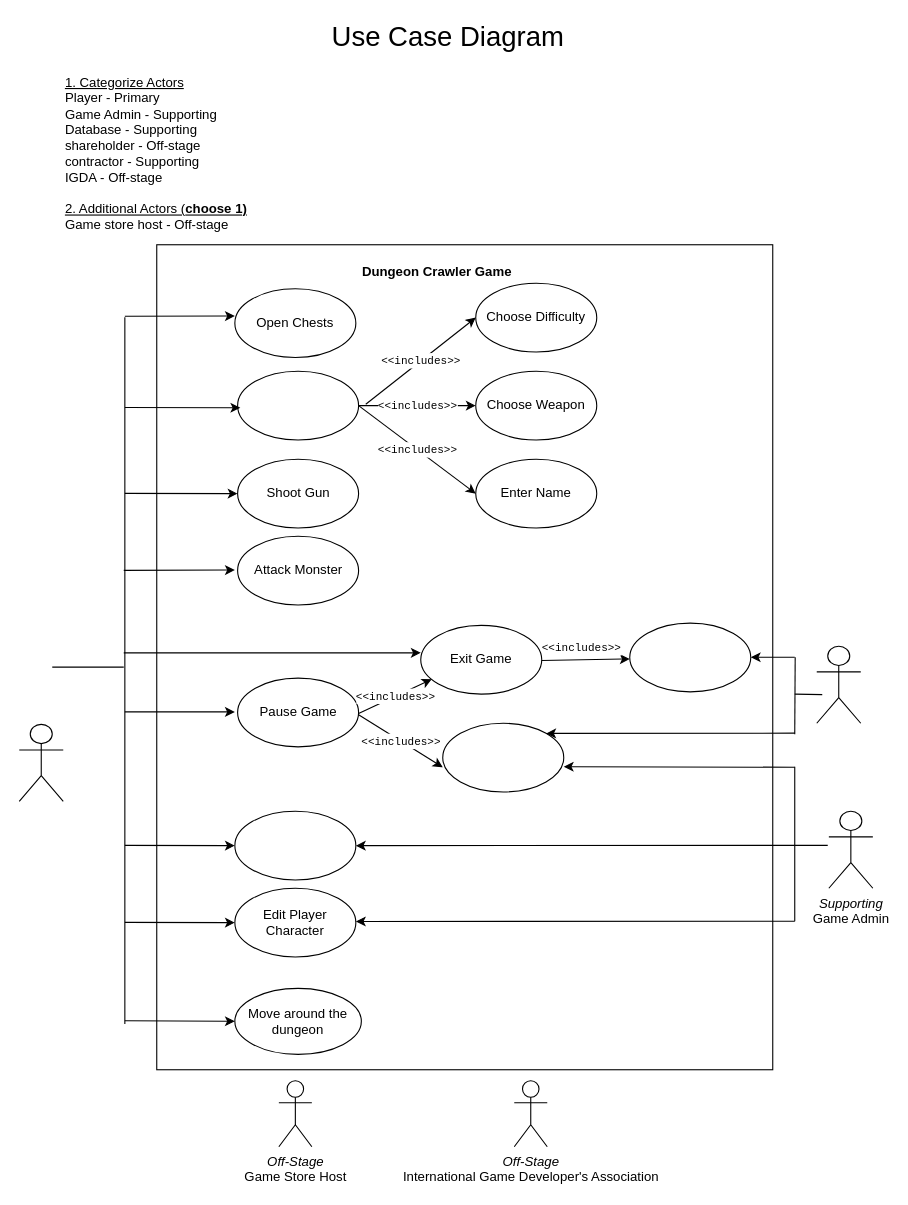
The diagram is 908 pixels wide and 1205 high, and some of its shapes have lost their labels. Here are the shapes that lost their labels. From the top down, the centre of each, then its label:
pixel 298 405: Start New Game
pixel 690 657: Save Progress
pixel 838 684: Supporting Third-Party Database
pixel 40 762: Primary Player
pixel 503 757: View Player Stats
pixel 295 845: Delete Character
